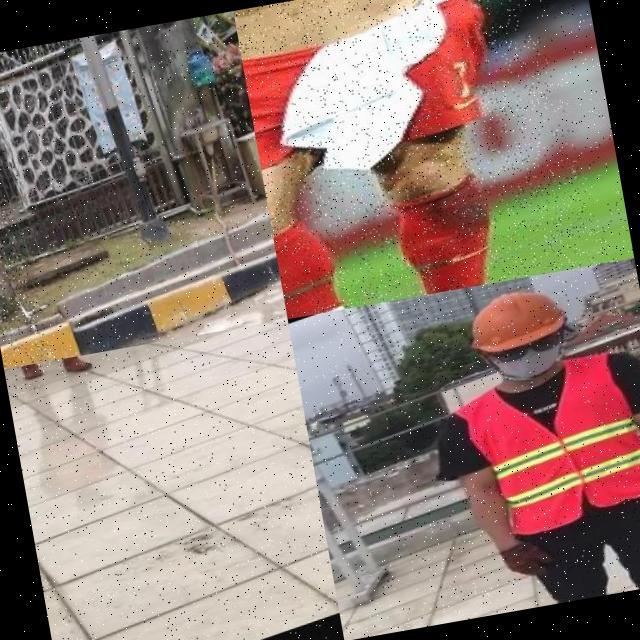boots: (54, 352, 99, 378), (12, 362, 46, 380)
helmet: (453, 270, 579, 366)
vest: (452, 339, 640, 547)
